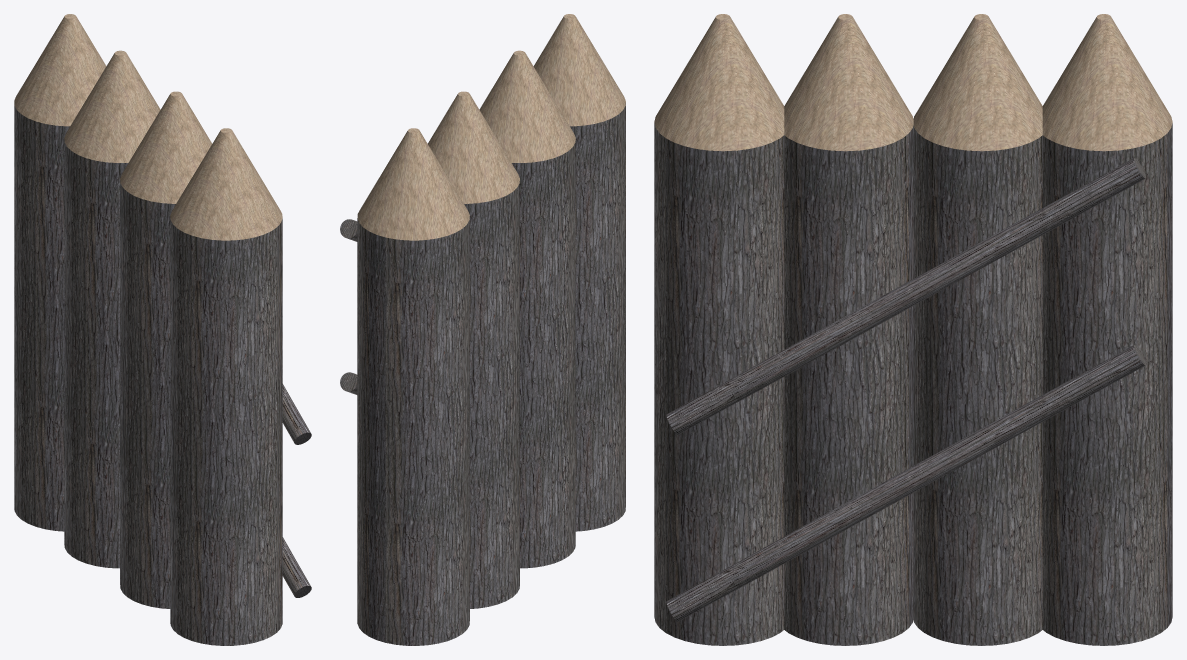
The model's file is chastokol.fbx.
3 renders of one model, left to right at view 1: azimuth 30°, elevation 25°; view 2: azimuth 150°, elevation 25°; view 3: azimuth 270°, elevation 25°, orthographic. The views are drawn at different scales.
Visible parts, largest first — view 1: Цилиндр.003, Цилиндр.001, Цилиндр; view 2: Цилиндр.003; view 3: Цилиндр.003, Цилиндр.001, Цилиндр.
Part boxes in pixels (bbox=[...]): Цилиндр.003: bbox=[14, 14, 282, 645]; Цилиндр.001: bbox=[282, 384, 311, 444]; Цилиндр: bbox=[282, 537, 311, 597]; Цилиндр.003: bbox=[357, 14, 625, 645]; Цилиндр.003: bbox=[654, 14, 1172, 645]; Цилиндр.001: bbox=[666, 157, 1146, 434]; Цилиндр: bbox=[666, 344, 1146, 621].
Size of the model in its own units: 136 by 563 by 441.
2 materials, 2 textured.
